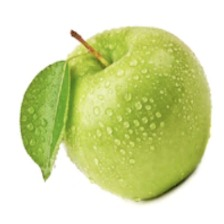apple: (32, 4, 217, 188)
